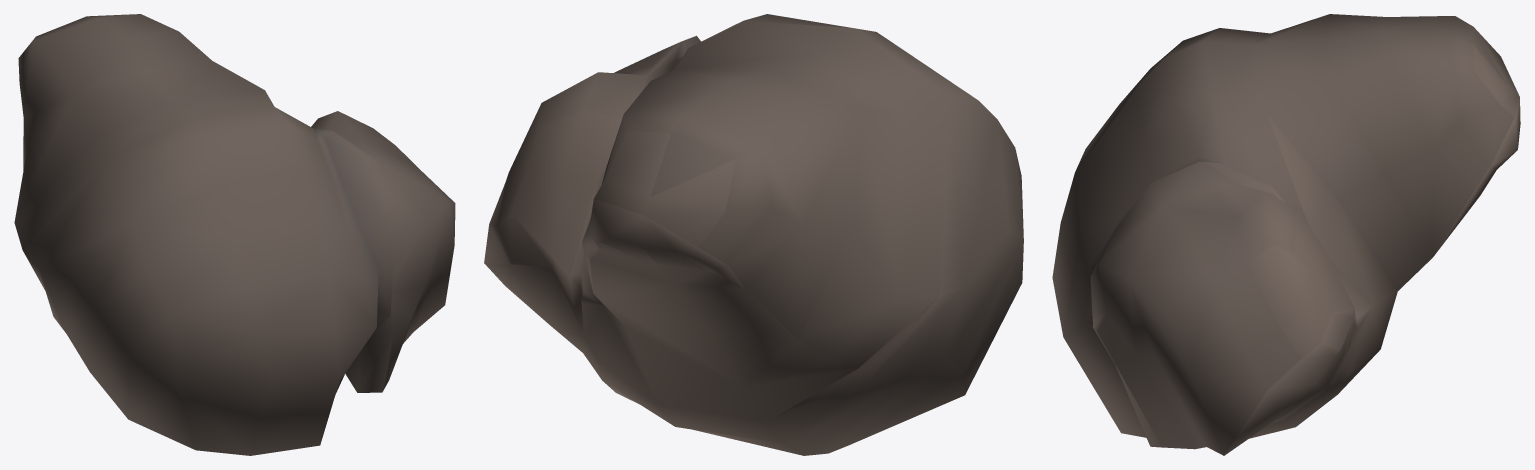
The model's file is SlantedRock.008.glb.
3 renders of one model, left to right at view 1: azimuth 30°, elevation 25°; view 2: azimuth 150°, elevation 25°; view 3: azimuth 270°, elevation 25°, orthographic. The views are drawn at different scales.
Visible parts, largest first — view 1: SlantedRock.008; view 2: SlantedRock.008; view 3: SlantedRock.008.
Part boxes in pixels (<box>): SlantedRock.008: <box>14,14,455,455</box>; SlantedRock.008: <box>484,14,1023,455</box>; SlantedRock.008: <box>1052,14,1520,455</box>.
Size of the model in its own units: 1346 by 1140 by 1324.
